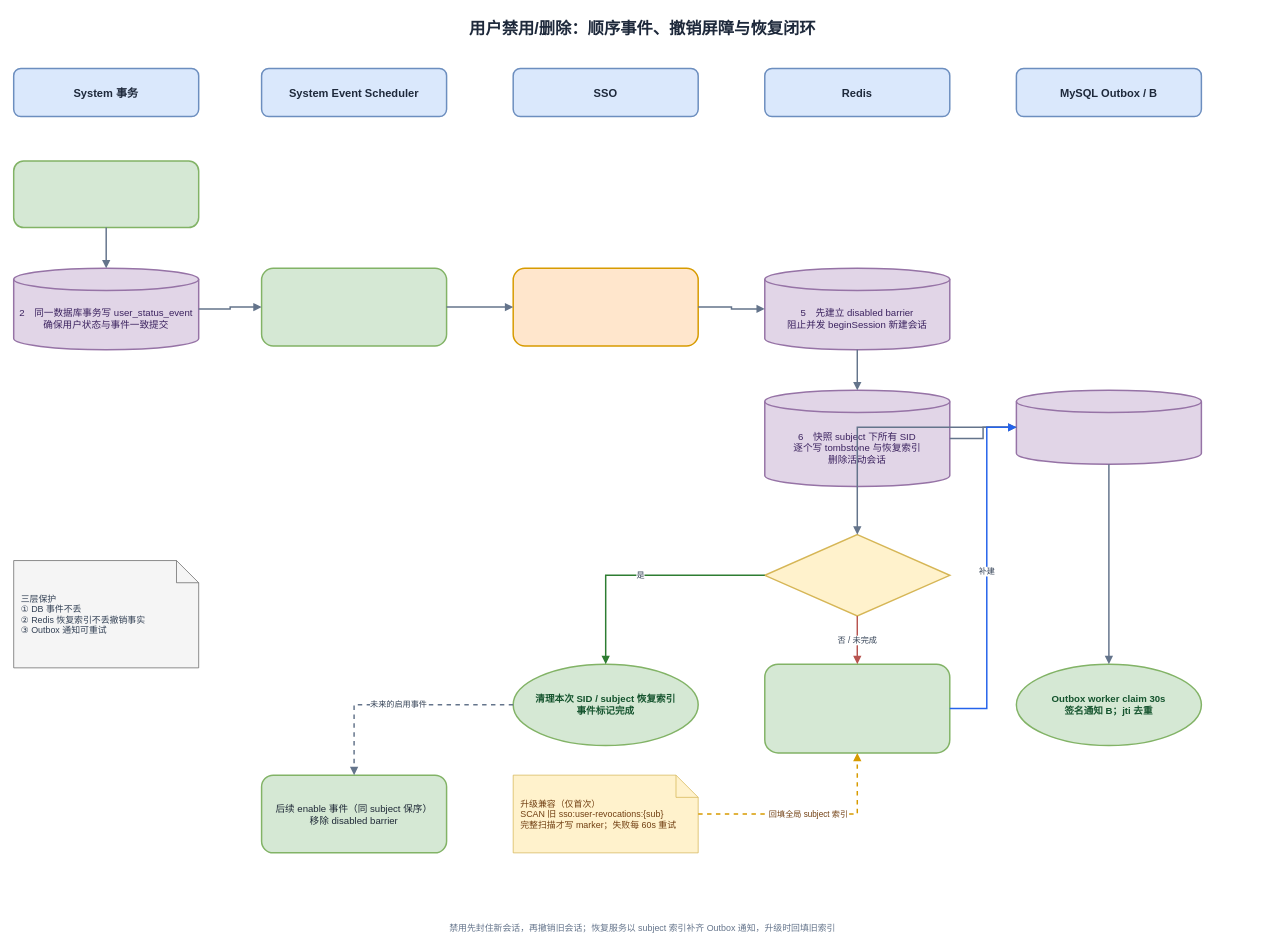
Some shapes in this 1273 by 949 pixel diagram are drawn without their labels. The centre of each missing label's shape, as x and y in pixels:
"1 禁用或删除用户 更新 sys_user" goes at (106,194).
"3 按 subject 保序 claim 租约 30s，失败可重试" goes at (353,306).
"4 POST /internal/users/{sub}/revoke loopback + X-INNER-TOKEN" goes at (605,306).
"7 为已登记 clients 写 logout outbox" goes at (1108,427).
"Outbox 写入全部成功？" goes at (857,575).
"RevocationRecoveryService 每 10s 根据全局 subject 索引补建通知 升级回填完成后同样接管" goes at (857,708).
